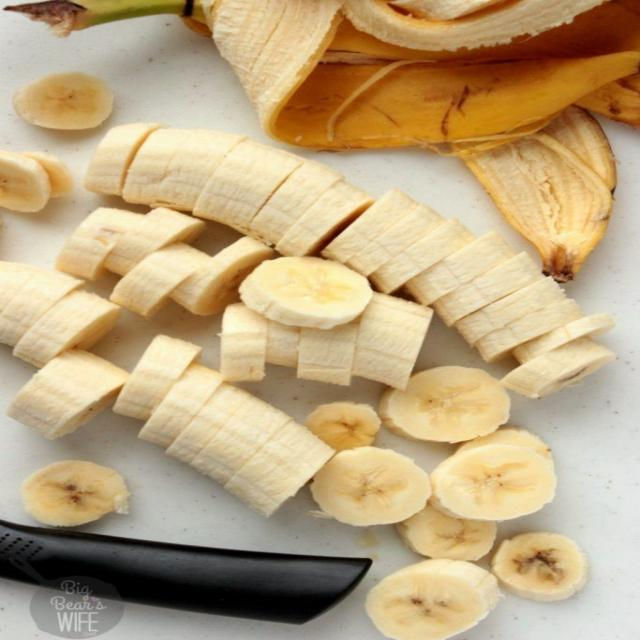banana slice: (465, 132, 612, 281), (343, 0, 602, 58), (366, 559, 500, 639), (8, 350, 128, 439), (224, 421, 334, 516), (190, 384, 291, 484), (194, 139, 302, 232), (379, 366, 510, 442), (123, 130, 244, 210), (240, 257, 372, 328), (432, 444, 555, 520), (312, 447, 431, 525), (433, 252, 542, 326), (14, 291, 120, 366), (172, 237, 275, 314), (250, 160, 343, 244), (405, 232, 513, 304), (371, 219, 474, 293), (455, 277, 565, 344), (354, 294, 432, 388), (114, 335, 201, 419), (110, 243, 208, 317), (276, 181, 372, 256), (139, 363, 223, 448), (347, 204, 444, 276), (22, 461, 129, 526), (502, 337, 615, 398), (323, 189, 416, 263), (105, 208, 205, 275), (476, 299, 583, 361), (492, 532, 588, 601), (0, 269, 83, 346), (544, 106, 616, 189), (56, 208, 140, 279), (13, 72, 113, 129), (84, 123, 162, 195), (396, 505, 496, 560), (121, 128, 193, 204), (513, 314, 614, 363), (166, 394, 230, 464), (306, 402, 380, 451), (221, 304, 268, 381), (457, 425, 552, 463), (298, 324, 357, 385), (0, 150, 51, 212), (392, 0, 502, 21), (22, 152, 73, 197), (0, 262, 39, 314), (267, 321, 300, 367)
